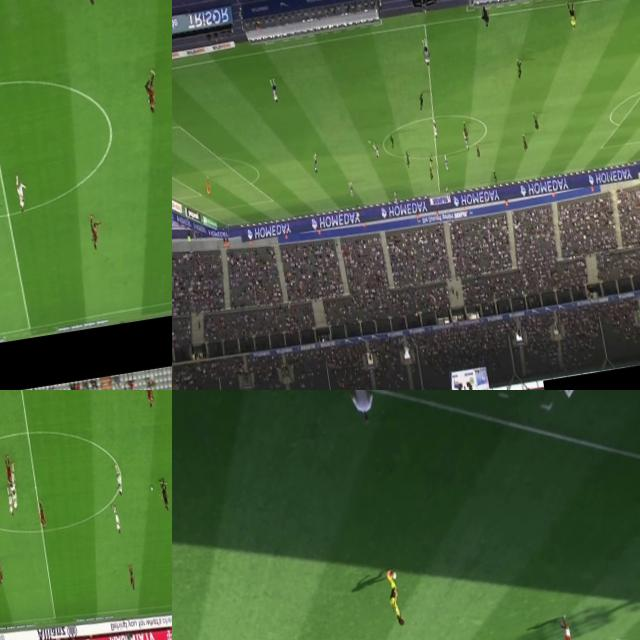ball: (146, 480, 158, 495), (392, 568, 399, 583), (366, 138, 372, 146)
player: (382, 570, 407, 632), (142, 73, 162, 117), (88, 212, 103, 253), (14, 172, 28, 215), (111, 459, 127, 496), (2, 452, 16, 490), (36, 496, 48, 530), (5, 488, 18, 519), (8, 482, 21, 512), (8, 464, 21, 494), (111, 502, 122, 537), (268, 76, 280, 106), (421, 36, 432, 67), (126, 564, 138, 590), (560, 620, 574, 640), (142, 390, 156, 409), (515, 56, 525, 80), (204, 174, 214, 198), (162, 484, 170, 512), (312, 152, 321, 175), (431, 115, 439, 139), (418, 90, 427, 111), (403, 148, 412, 168), (372, 140, 381, 160), (0, 558, 6, 587), (521, 131, 529, 152), (463, 130, 470, 152), (442, 153, 449, 175), (348, 178, 355, 200), (533, 110, 540, 131), (388, 132, 396, 150), (392, 190, 400, 207), (462, 120, 469, 138), (492, 167, 499, 185), (476, 143, 482, 159), (428, 166, 434, 181)
